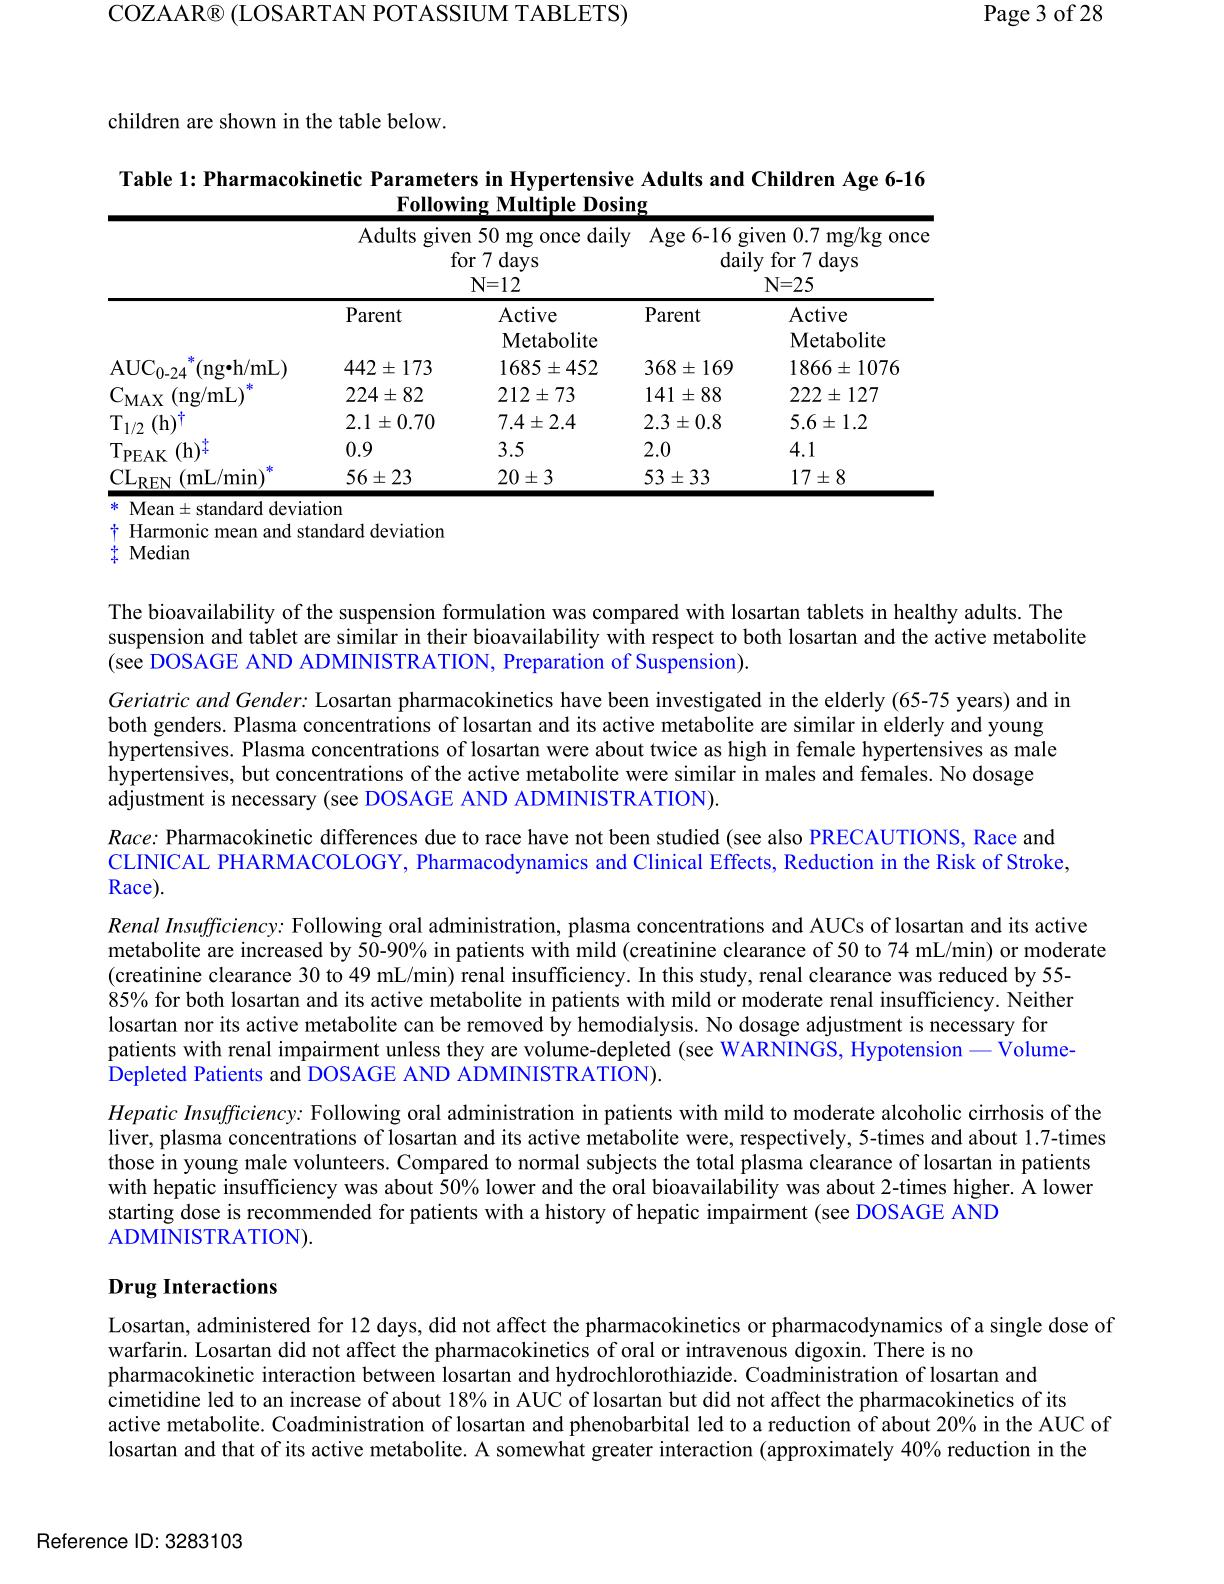partial_lined_merged_cells: (99, 213, 936, 498)
